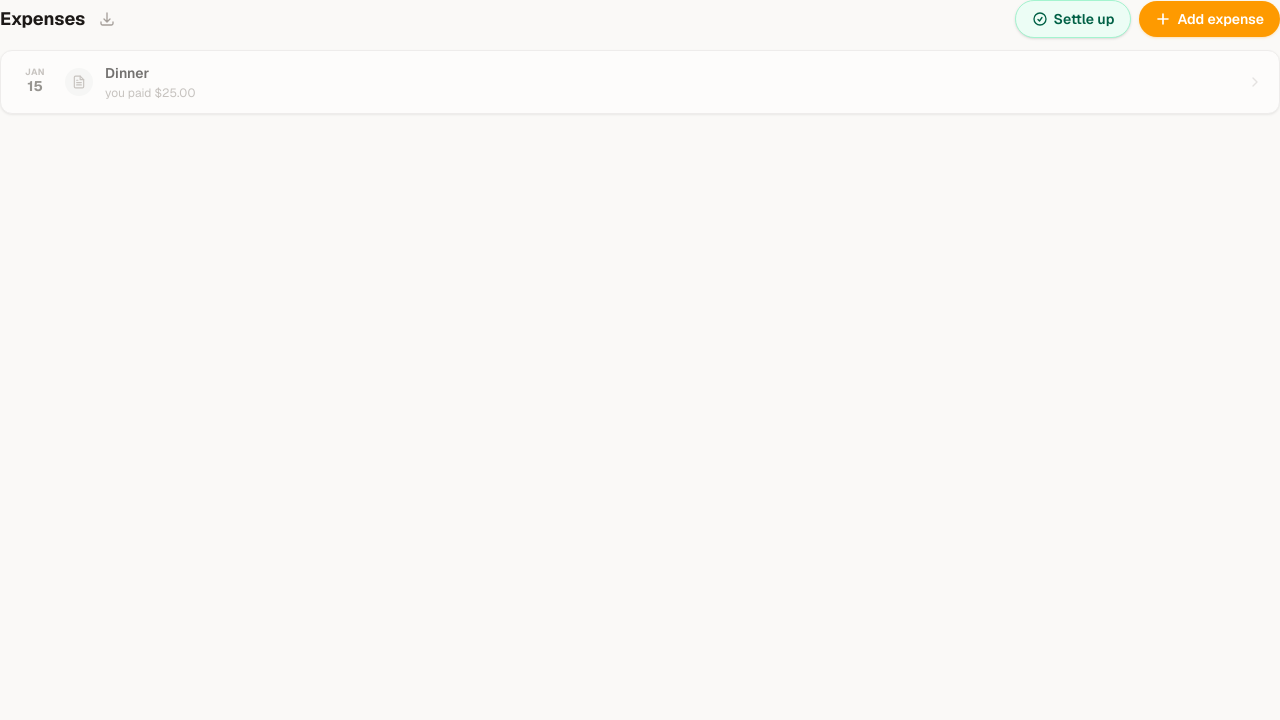
ExpensesList — detail modal disables Edit/Delete while expense is pending › Edit and Delete buttons are disabled in the modal while the expense is pending
Click the button "JAN 15 Dinner you paid $25.00" at {"x": 640, "y": 82}, box [0, 50, 1279, 114]
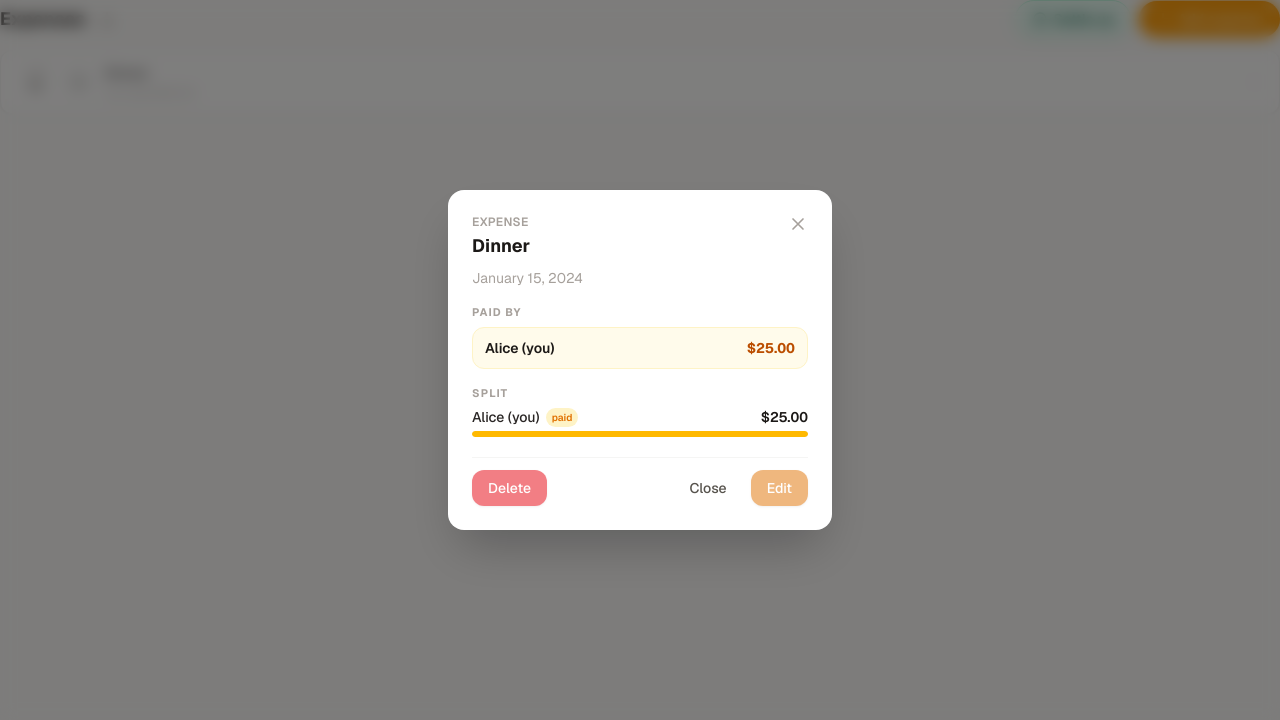
Now the button with aria-label "edit expense" is disabled, box [751, 470, 808, 506]
Now the button with aria-label "delete expense" is disabled, box [472, 470, 547, 506]
